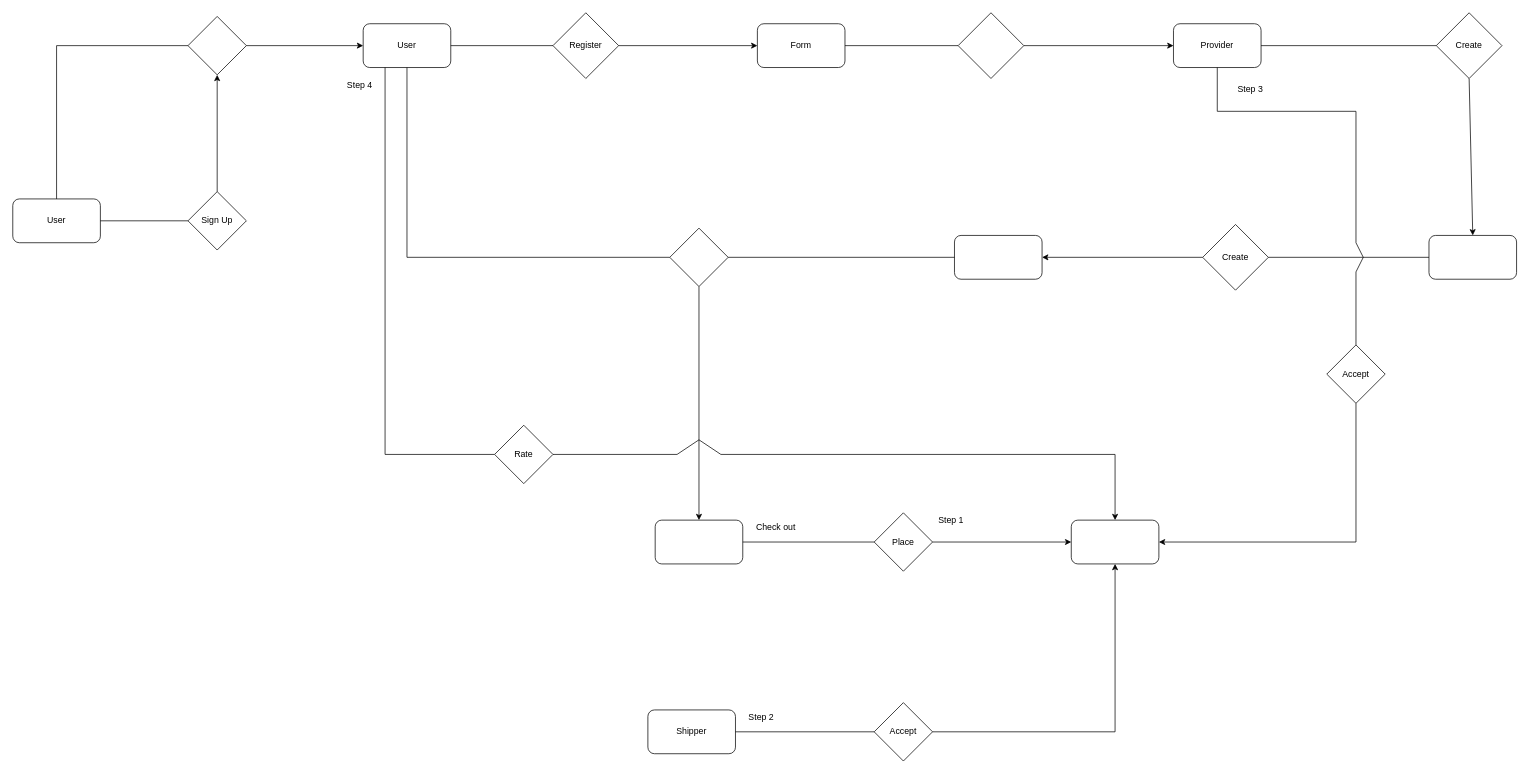
This 1529x774 diagram has some shape labels left out. Each missing label, with the centre of its shape:
Add: the point at 698,257
Become: the point at 990,45
Cart: the point at 698,541
Login: the point at 216,45
Menu: the point at 1472,257
Order: the point at 1115,541
Product: the point at 998,257
